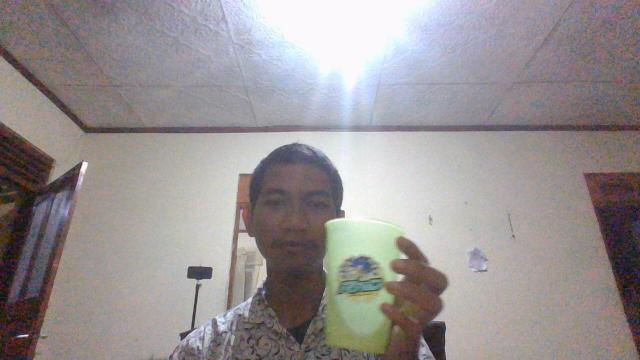botol-hijau: (321, 215, 409, 355)
